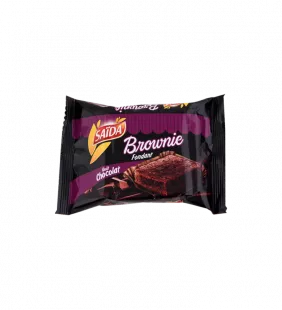SAIDA: (46, 86, 237, 221)
